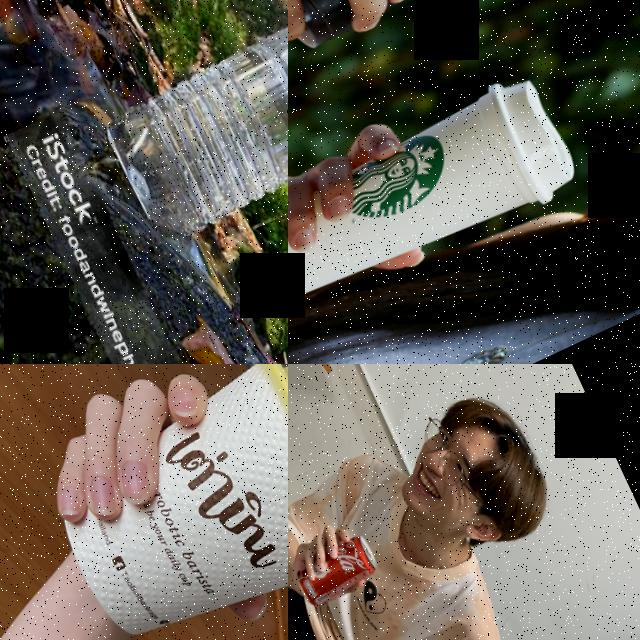bottle: (95, 0, 288, 252)
can: (289, 532, 384, 610)
cup: (288, 66, 585, 331), (24, 364, 288, 640)
